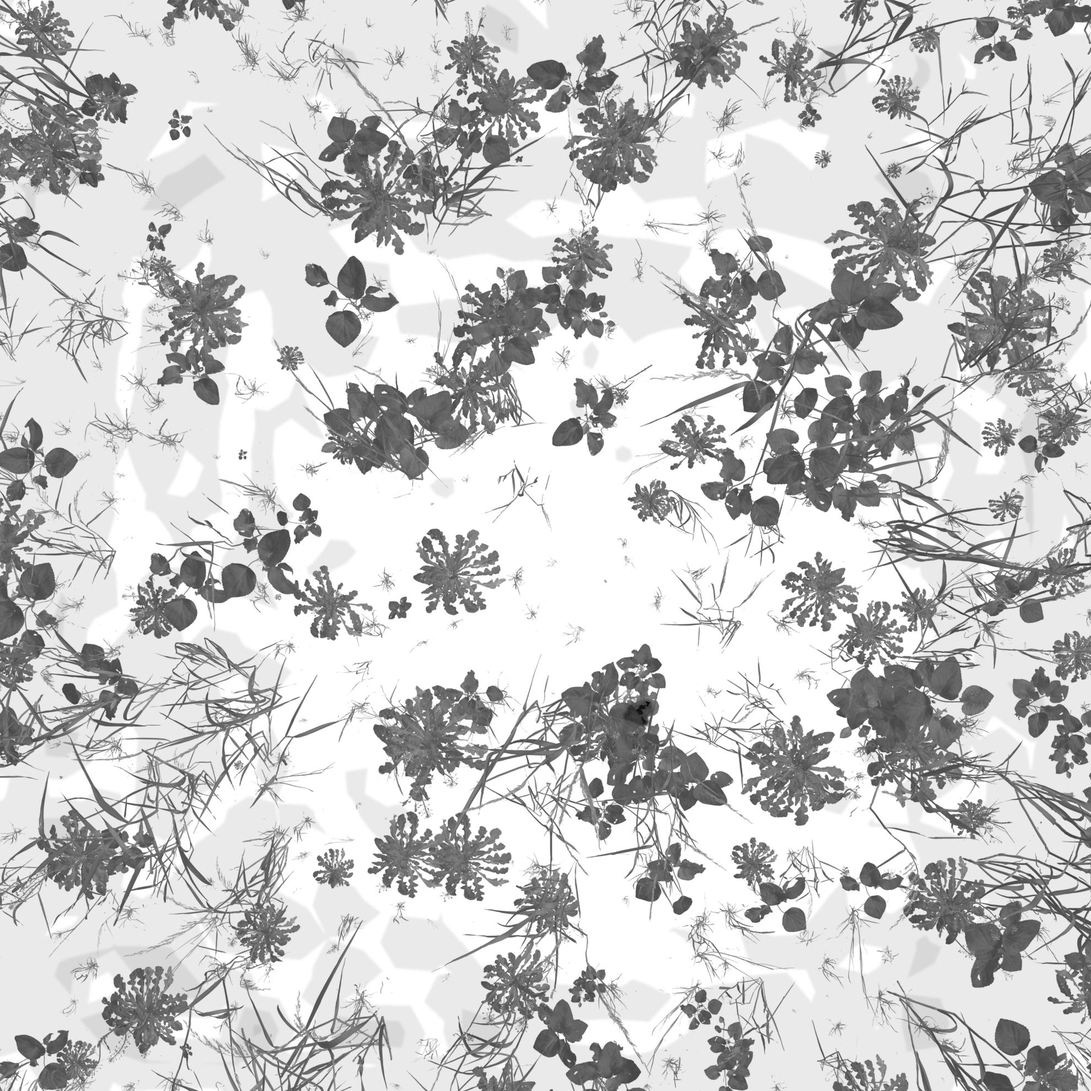landmine: (617, 700, 655, 753)
